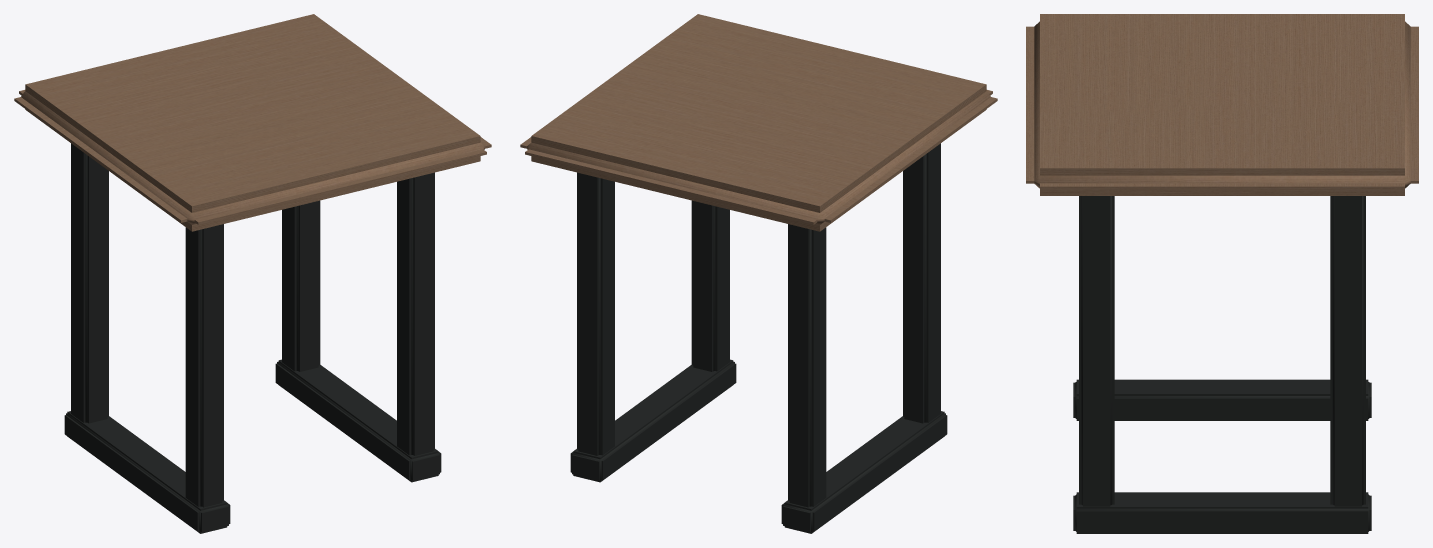
File: industrial.side_table.gltf
The picture shows the model from 3 angles, left to right: view 1: azimuth 30°, elevation 25°; view 2: azimuth 150°, elevation 25°; view 3: azimuth 270°, elevation 25°; orthographic projection. The views are drawn at different scales.
Parts seen in each view (by area): view 1: industrial.side_table.rounded-top; view 2: industrial.side_table.rounded-top; view 3: industrial.side_table.rounded-top.
Boxes of the visible parts, x1,y1,x2,y2 form: industrial.side_table.rounded-top: [14, 14, 491, 533]; industrial.side_table.rounded-top: [520, 14, 997, 533]; industrial.side_table.rounded-top: [1026, 14, 1418, 533].
Size of the model in its own units: 0.46 by 0.49 by 0.46.
Materials: 2 (1 with a texture image).
